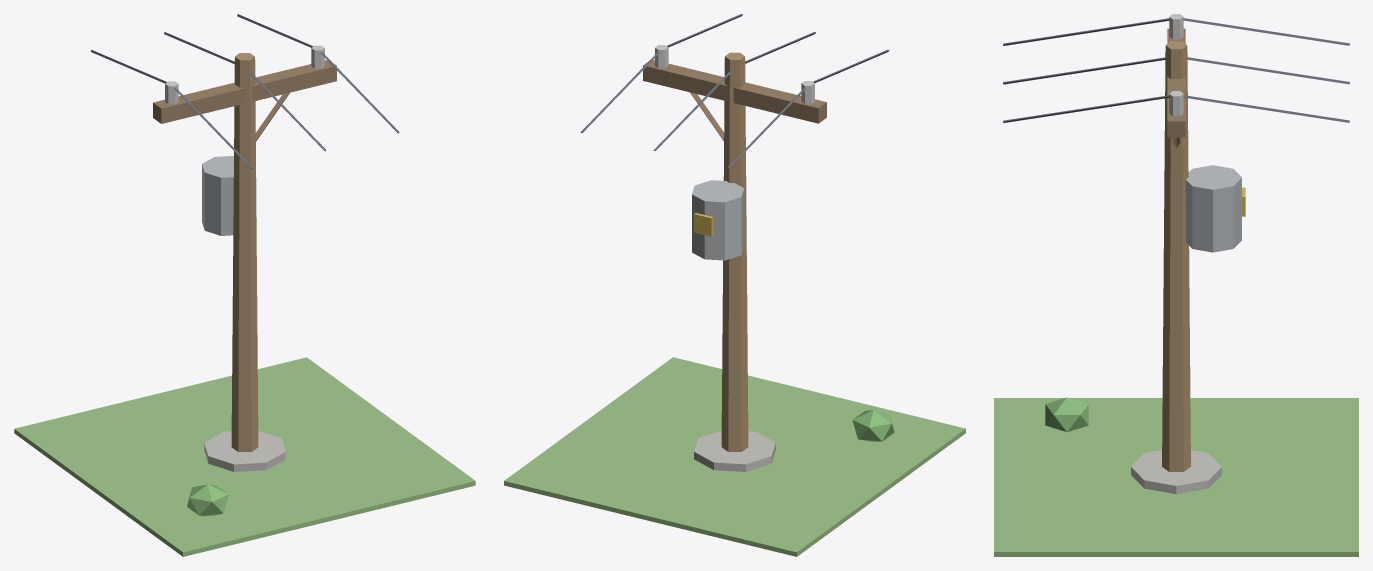
File: energia__poste_energia.glb
3 views of the same model, side by side, from view 1: azimuth 30°, elevation 25°; view 2: azimuth 150°, elevation 25°; view 3: azimuth 270°, elevation 25° (orthographic). The views are drawn at different scales.
Parts seen in each view (by area): view 1: energia__poste_energia; view 2: energia__poste_energia; view 3: energia__poste_energia.
Boxes of the visible parts, left/top/right/bottom form: energia__poste_energia: left=14, top=14, right=475, bottom=556; energia__poste_energia: left=504, top=14, right=965, bottom=556; energia__poste_energia: left=994, top=14, right=1358, bottom=556.
Bounding box in the file's own units: 2 × 2.63 × 2.
